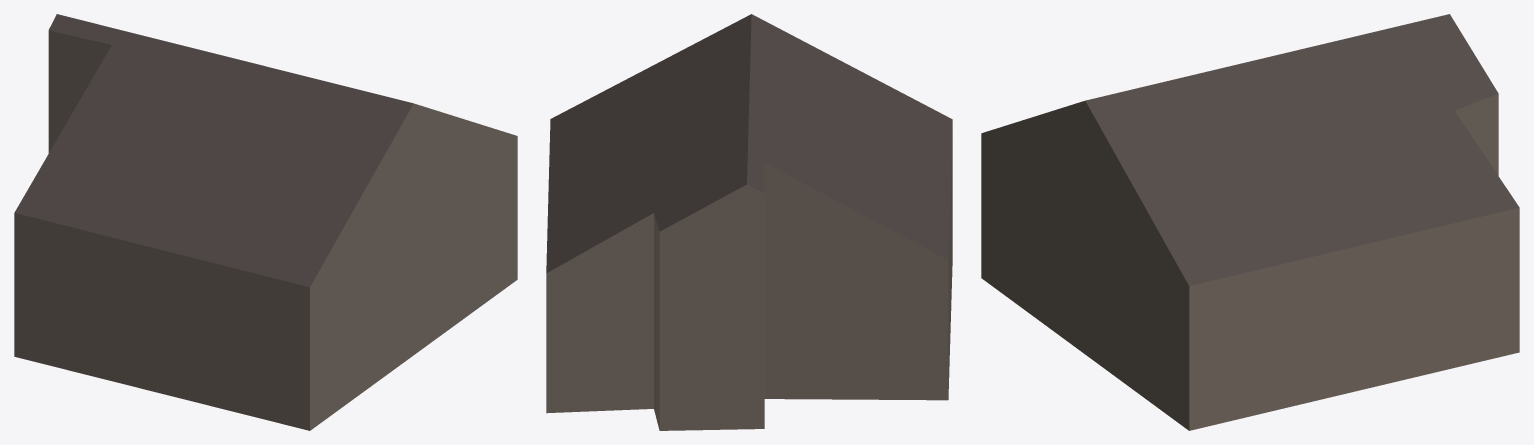
3 views of the same model, side by side, from view 1: azimuth 30°, elevation 25°; view 2: azimuth 150°, elevation 25°; view 3: azimuth 270°, elevation 25° (orthographic). The views are drawn at different scales.
Visible parts, largest first — view 1: HP-w1513026701; view 2: HP-w1513026701; view 3: HP-w1513026701.
Part boxes in pixels (x1,y1,x2,y2): HP-w1513026701: (14, 14, 517, 430); HP-w1513026701: (546, 14, 952, 430); HP-w1513026701: (981, 14, 1519, 430).
Bounding box in the file's own units: 19.94 × 10.52 × 20.21.
